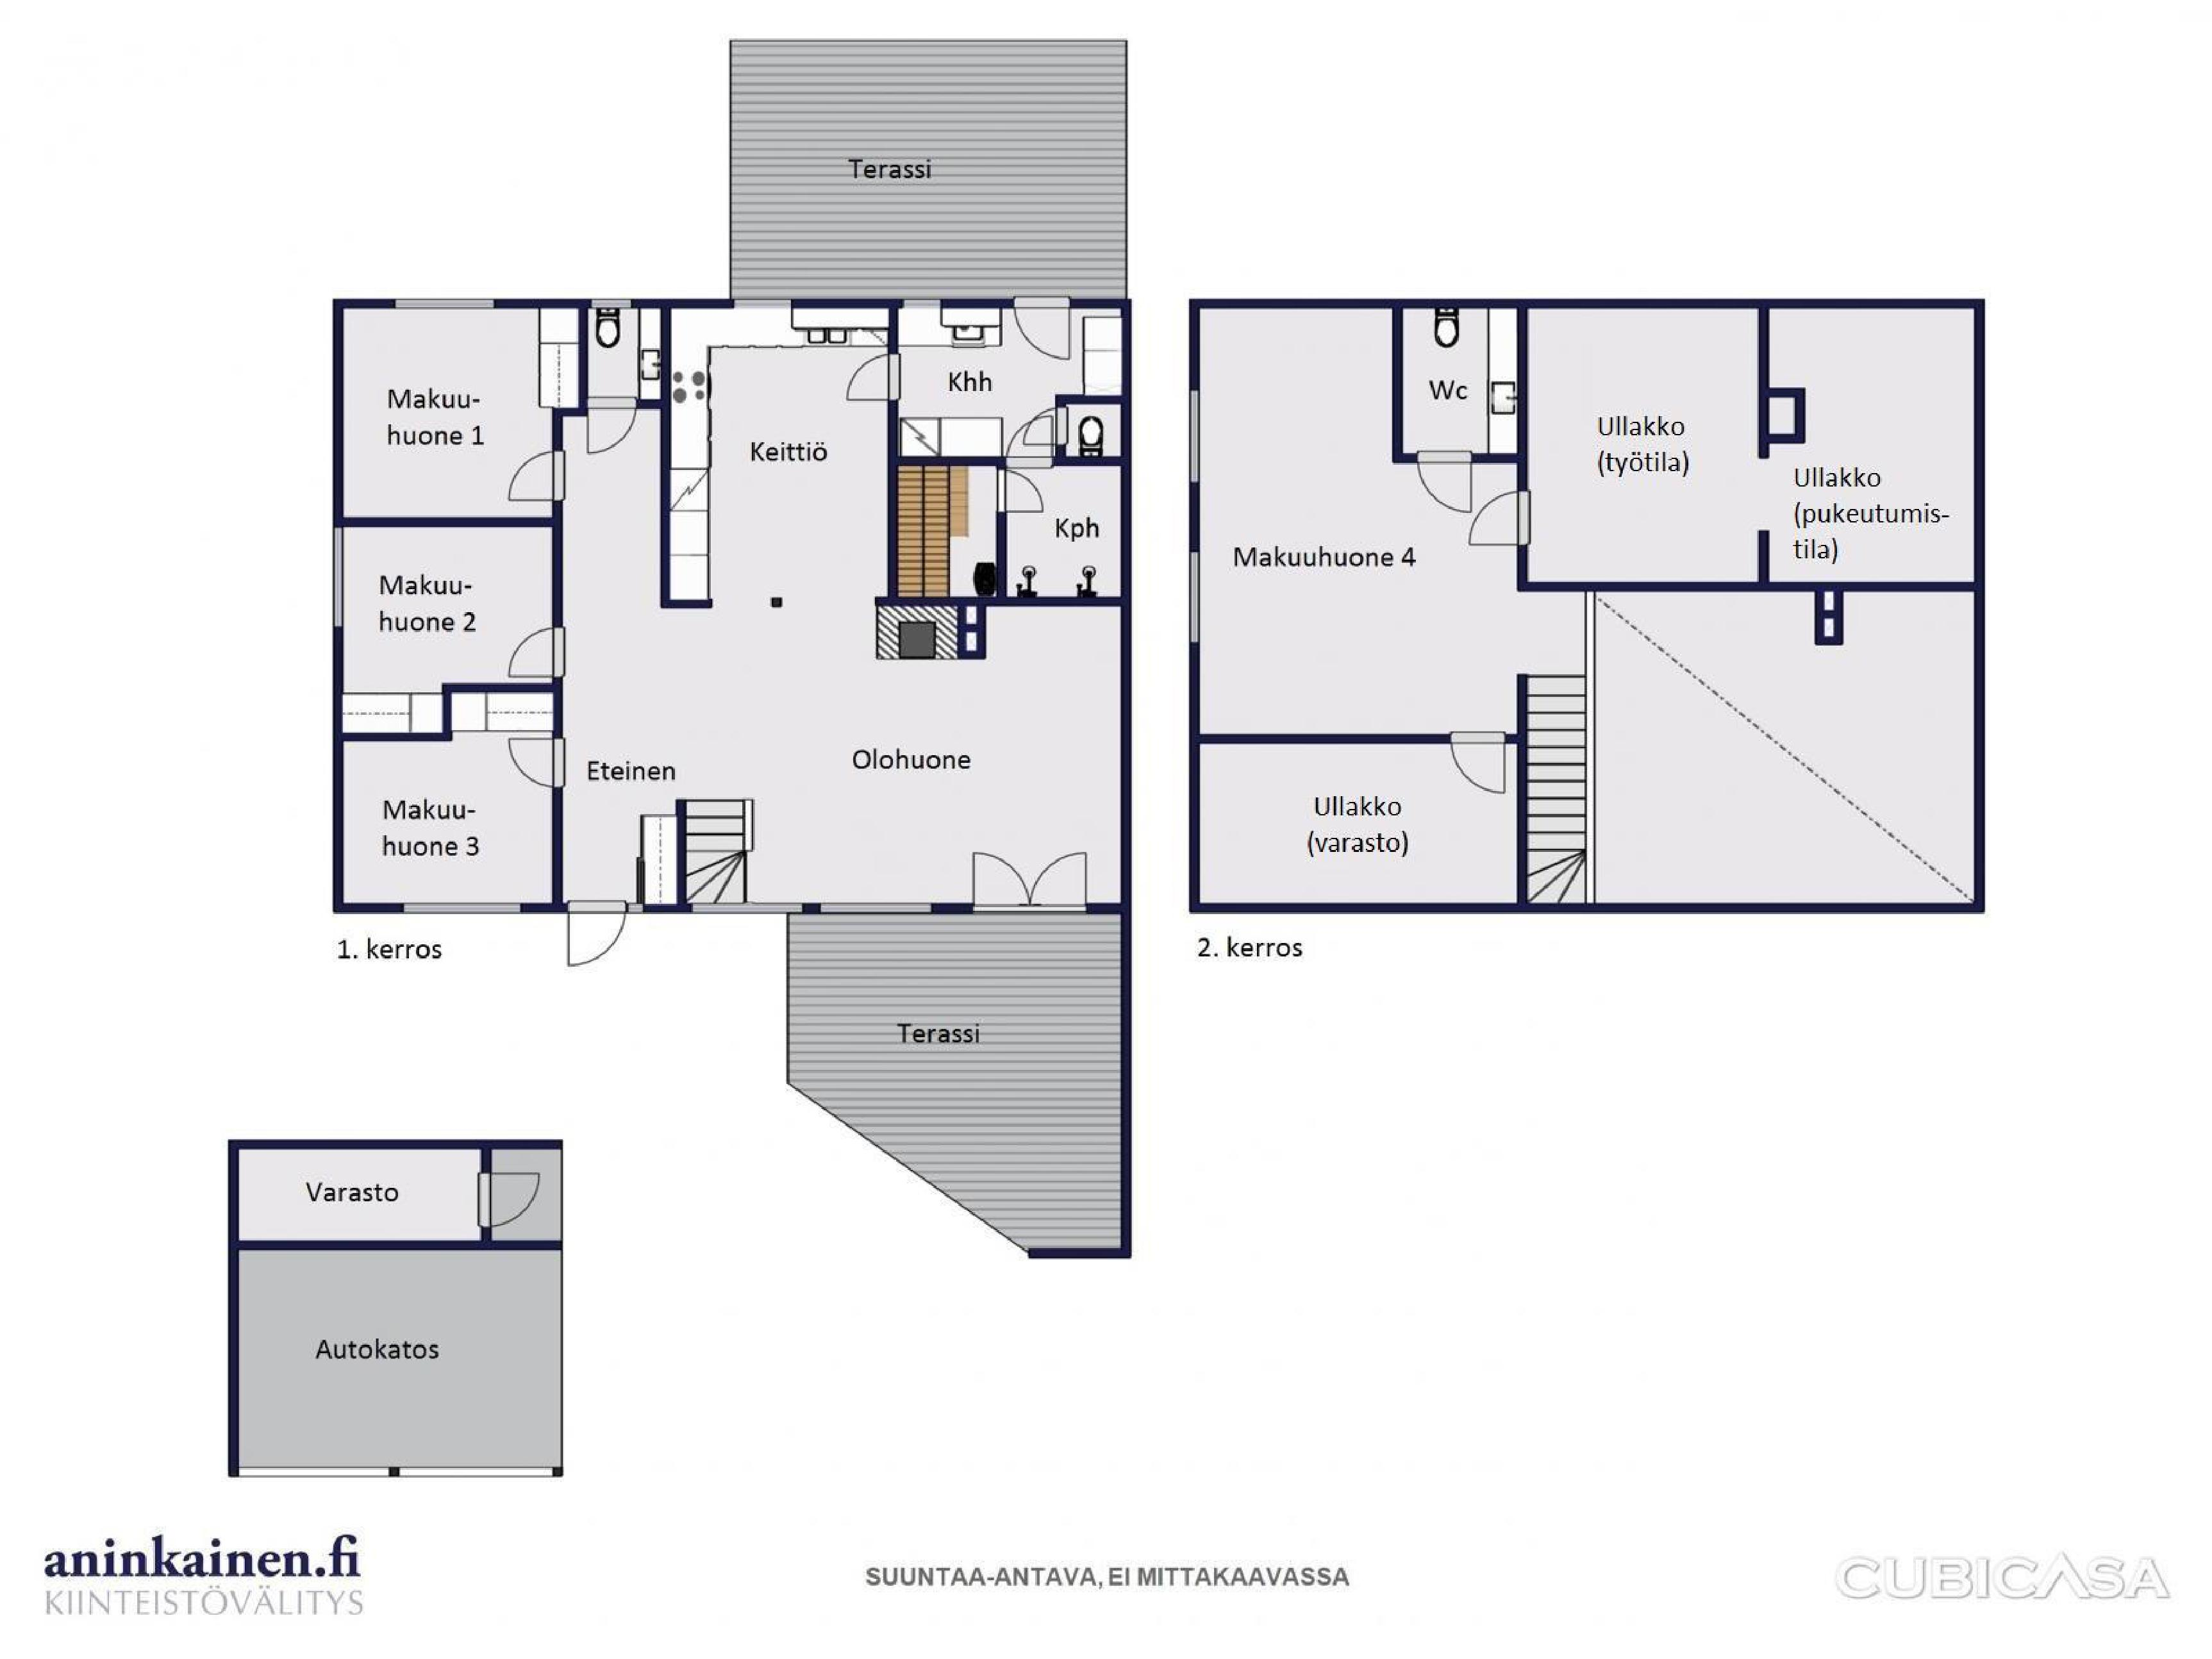door: (963, 849, 1089, 924), (1411, 444, 1479, 516), (563, 899, 625, 974), (502, 730, 573, 791), (1007, 404, 1076, 464), (1451, 730, 1510, 798), (469, 1169, 536, 1225), (1468, 497, 1536, 545), (1017, 298, 1073, 352), (509, 455, 566, 507), (585, 397, 634, 455), (505, 627, 559, 678), (998, 471, 1055, 518), (846, 355, 899, 404), (1026, 415, 1064, 453)
window: (686, 890, 803, 925), (399, 1462, 547, 1488), (401, 899, 519, 920), (394, 293, 482, 317), (824, 901, 928, 920), (240, 1471, 387, 1483), (329, 530, 345, 627), (1186, 396, 1204, 481), (1188, 552, 1202, 652)
zone: (561, 298, 1127, 908), (1202, 305, 1590, 725), (1527, 589, 1972, 904), (1522, 301, 1970, 586), (786, 917, 1127, 1277), (735, 38, 1122, 291), (240, 1248, 554, 1466), (1202, 744, 1515, 897), (340, 305, 559, 518), (340, 688, 554, 904), (343, 525, 550, 734), (897, 296, 1115, 464), (235, 1148, 488, 1239), (1397, 301, 1522, 453), (894, 458, 1001, 591), (1008, 464, 1111, 594), (566, 301, 672, 404), (486, 1147, 563, 1234), (1061, 397, 1127, 464)
